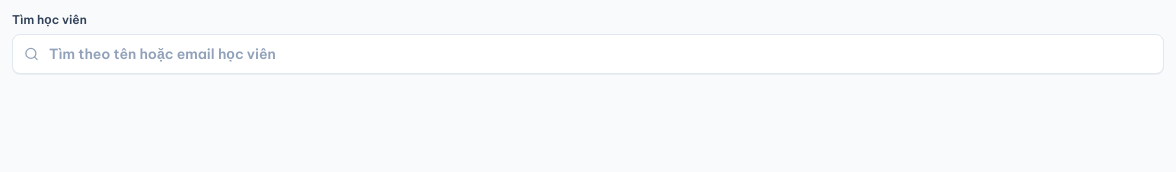
Scenario: UserPicker request lifecycle › bỏ qua phản hồi cũ khi người dùng nhập truy vấn mới
This screenshot has width=1176, height=172.
Type "old" into the dropdown. click: (588, 54)
box: [12, 34, 1164, 74]
Wait 220 ms
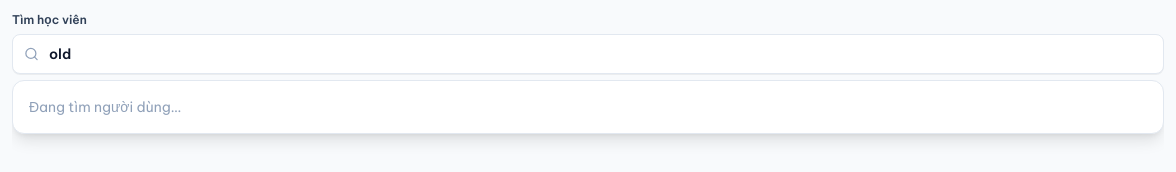
Replace the text in the dropdown with "new". click: (588, 54)
box: [12, 34, 1164, 74]
Wait 220 ms
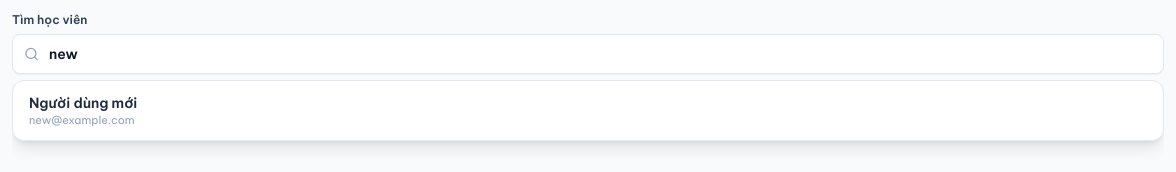
Now the option "Người dùng mới new@example.com" is shown, box [17, 85, 1159, 136]
